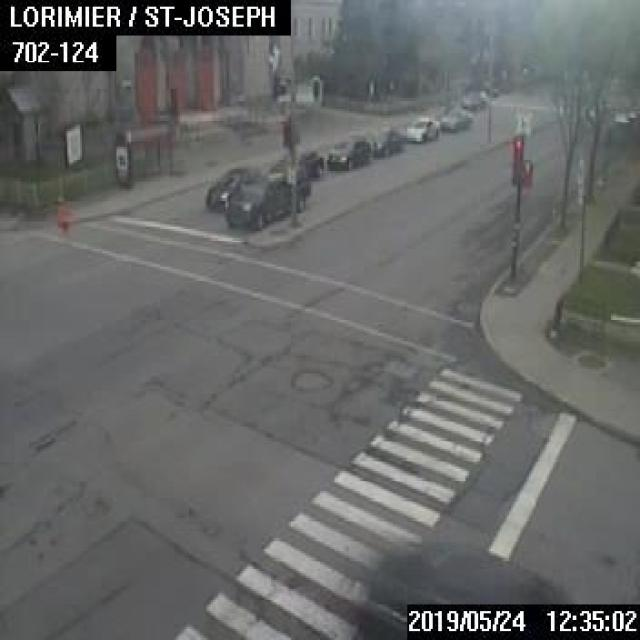construction: (53, 189, 69, 231)
vehicle: (356, 540, 580, 638), (223, 171, 310, 229), (204, 166, 256, 209), (325, 134, 369, 171), (268, 149, 322, 179), (402, 115, 438, 142), (368, 130, 402, 156), (438, 105, 470, 132), (460, 90, 486, 109)
